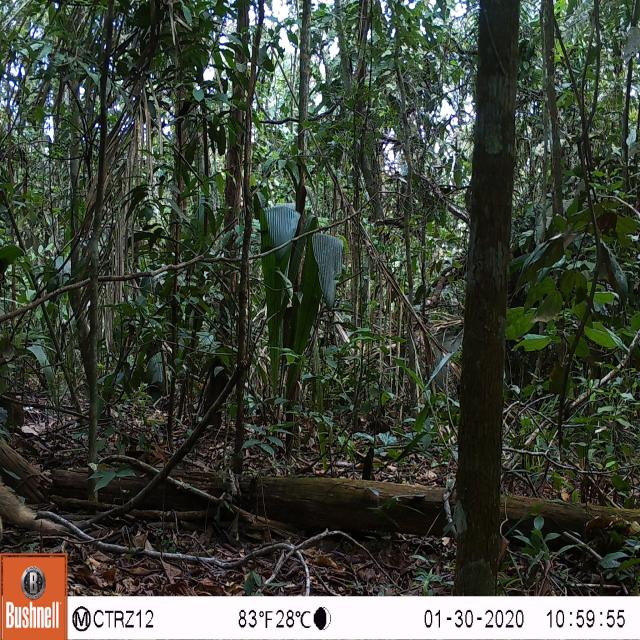Southern Tamandua: (0, 446, 72, 551)
